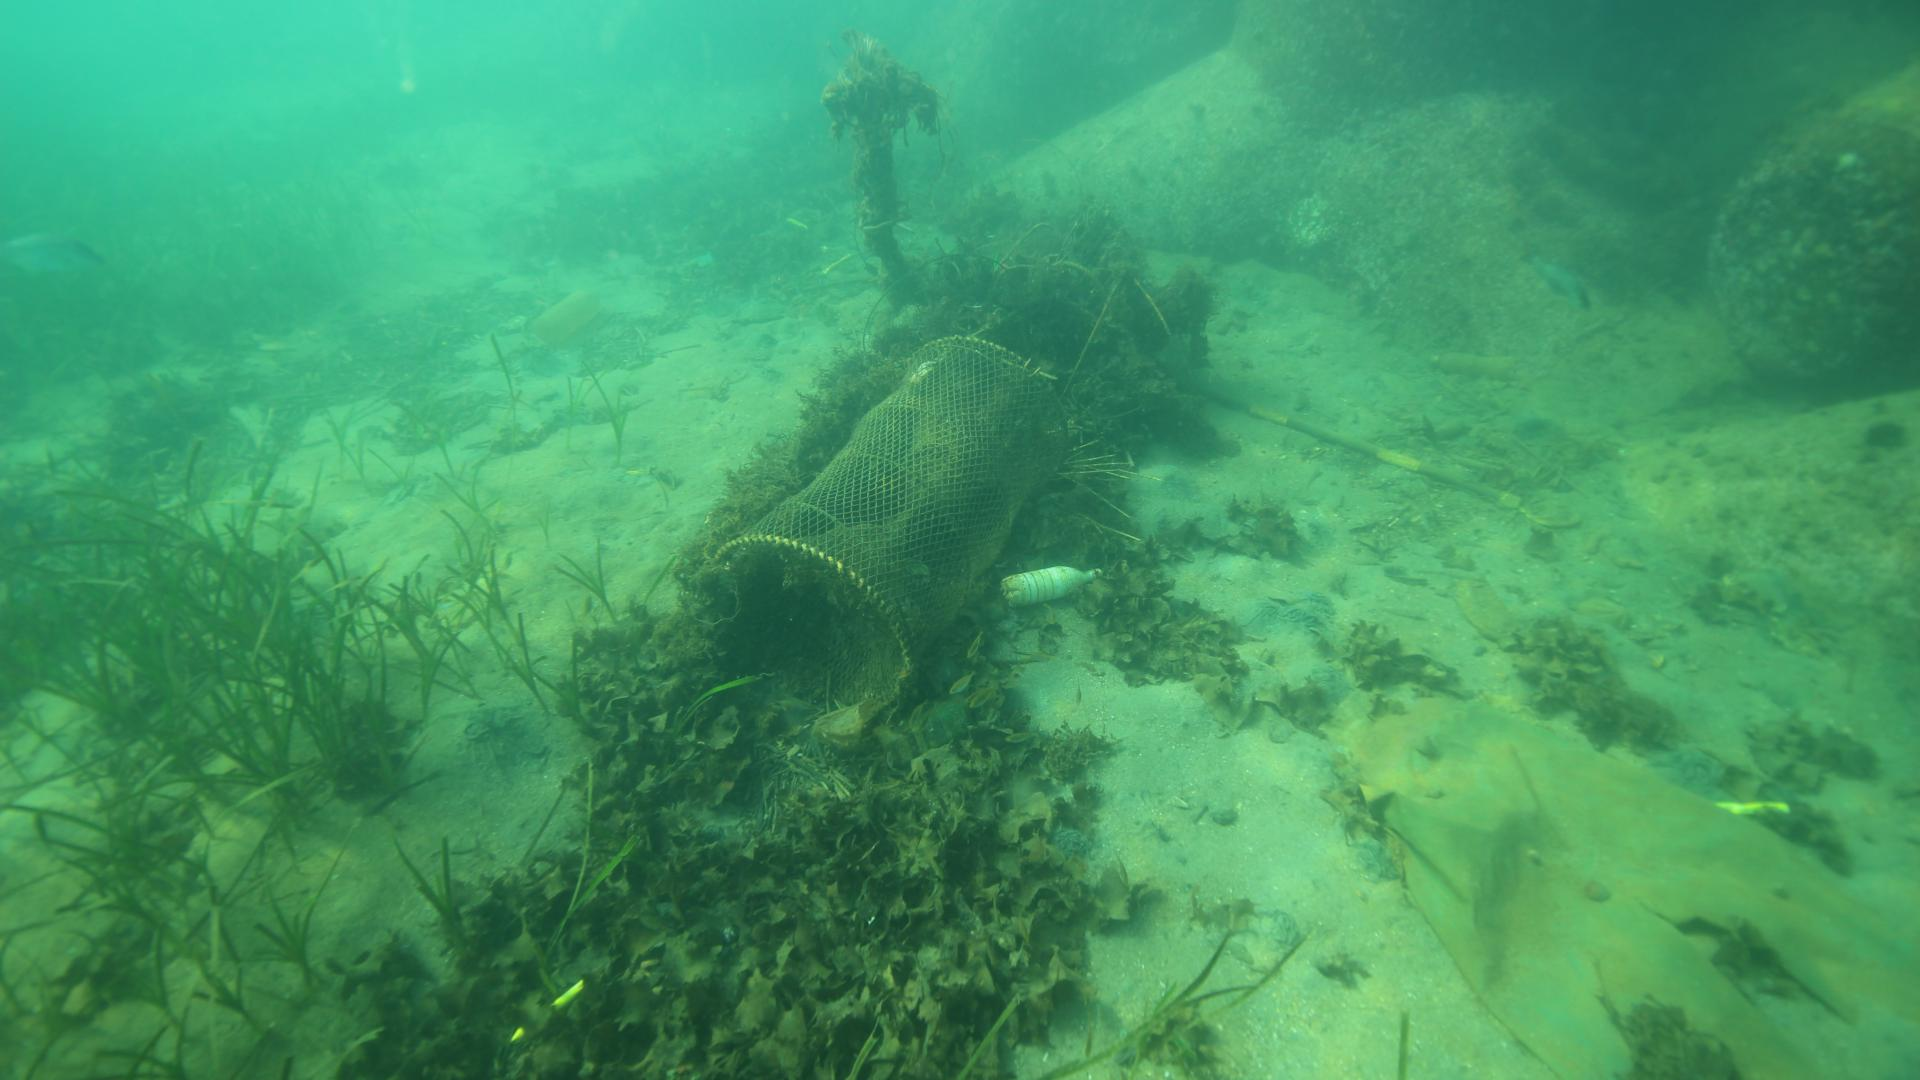spring fish trap: (711, 334, 1069, 728)
